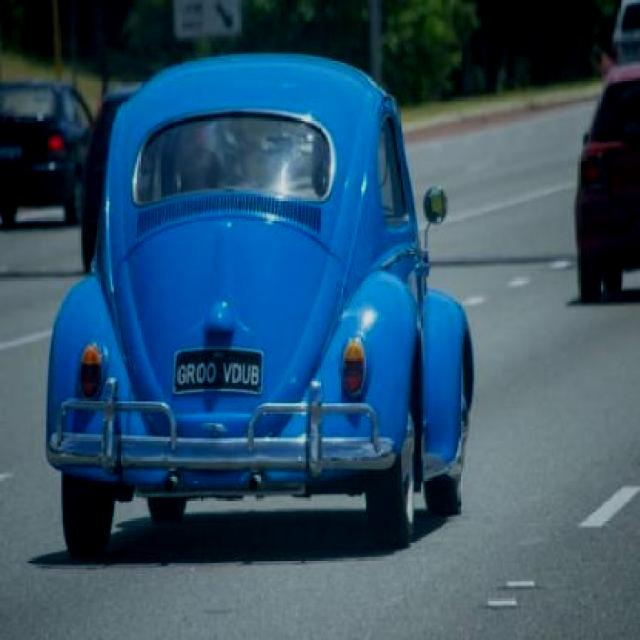car: (50, 58, 475, 537)
